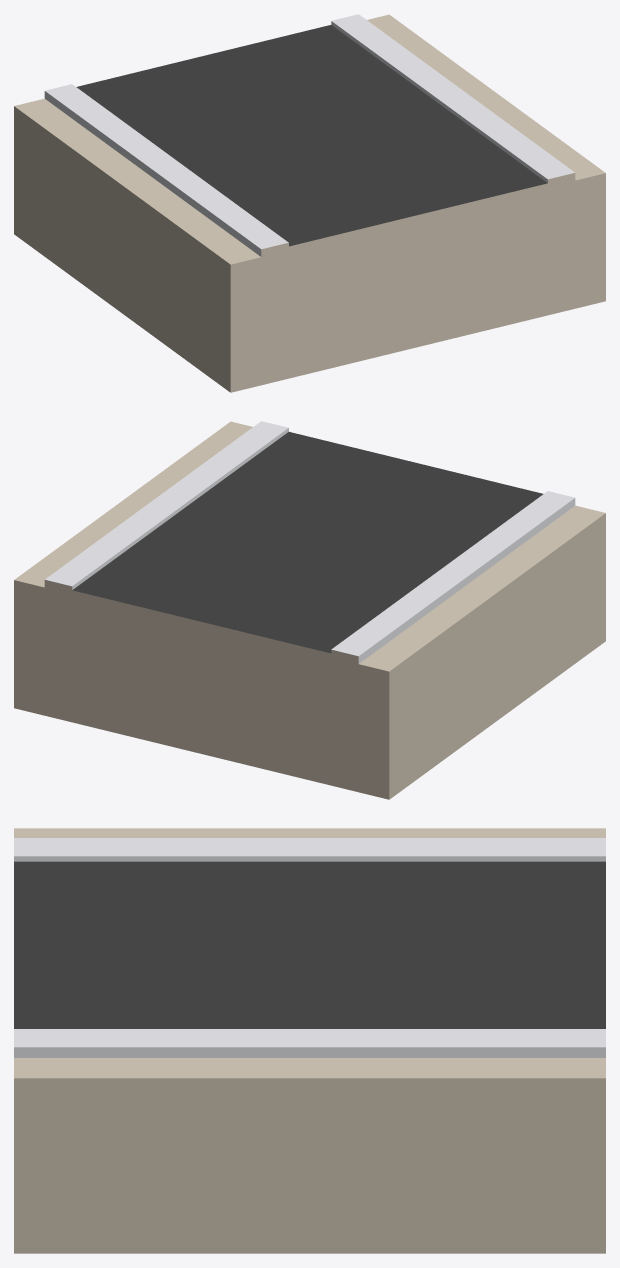
The model's file is roadStraightBridge.fbx.
3 views of the same model, one above another, from view 1: azimuth 30°, elevation 25°; view 2: azimuth 150°, elevation 25°; view 3: azimuth 270°, elevation 25° (orthographic). The views are drawn at different scales.
Visible parts, largest first — view 1: roadStraightBridge; view 2: roadStraightBridge; view 3: roadStraightBridge.
Boxes of the visible parts, <box> form: roadStraightBridge: <box>14,14,605,392</box>; roadStraightBridge: <box>14,421,605,799</box>; roadStraightBridge: <box>14,828,605,1253</box>.
Size of the model in its own units: 1000 by 1000 by 346.
